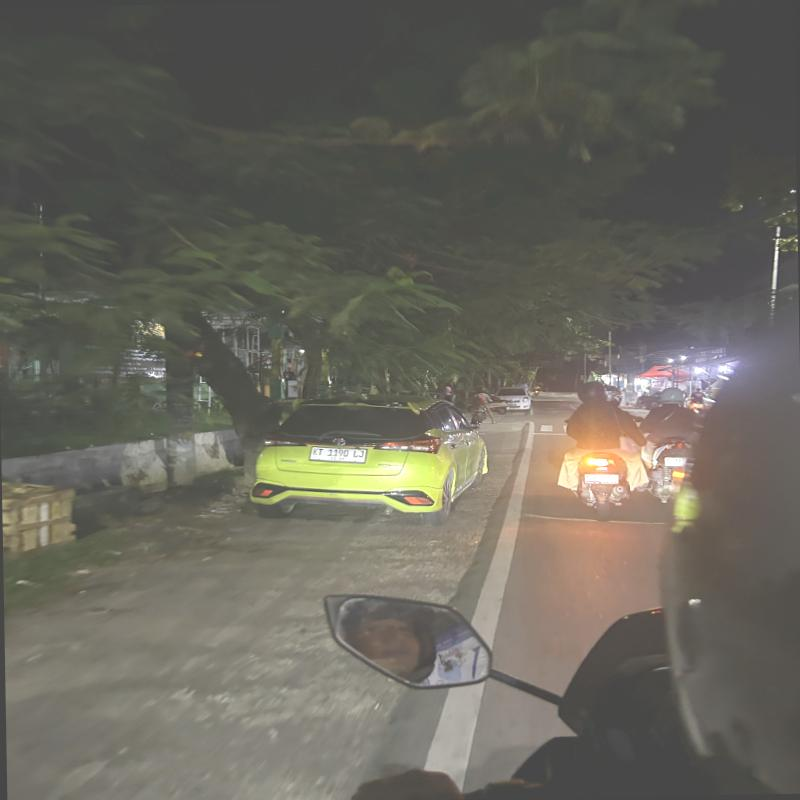license plate on a car: (309, 443, 368, 465)
